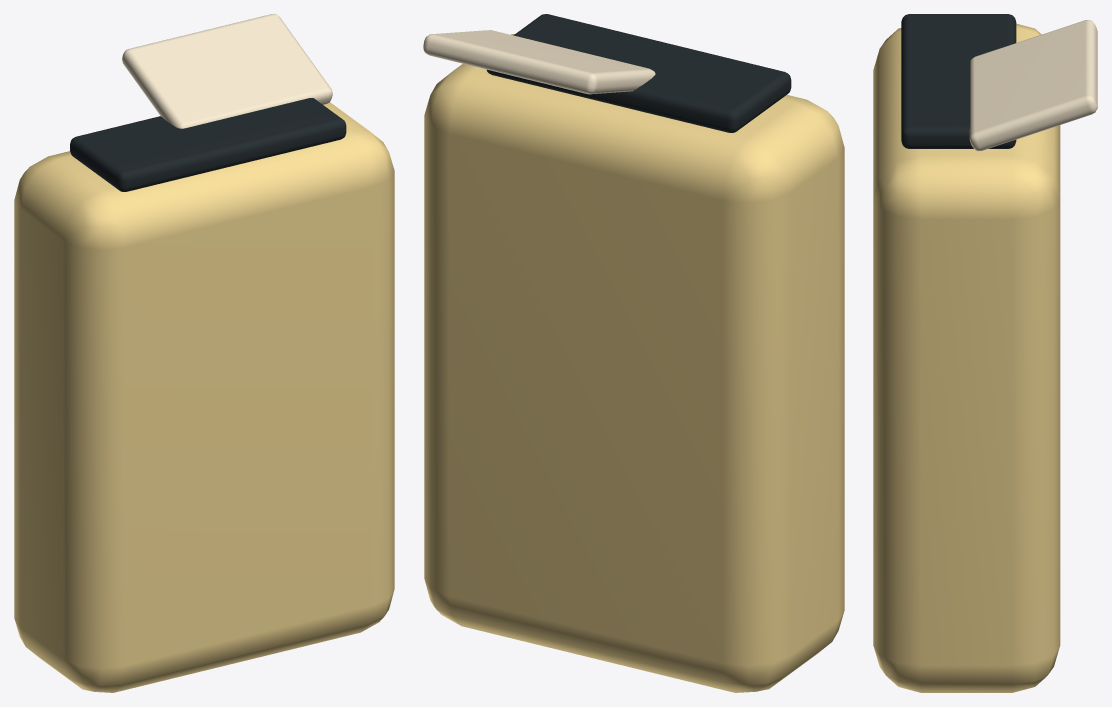
The model's file is Food_Opened.fbx.
3 renders of one model, left to right at view 1: azimuth 30°, elevation 25°; view 2: azimuth 150°, elevation 25°; view 3: azimuth 270°, elevation 25°, orthographic. The views are drawn at different scales.
Visible parts, largest first — view 1: Food, RaisedWrapperFlap, OpenTear; view 2: Food, OpenTear, RaisedWrapperFlap; view 3: Food, RaisedWrapperFlap, OpenTear.
Part boxes in pixels (bbox=[...]): Food: bbox=[14, 102, 394, 692]; RaisedWrapperFlap: bbox=[122, 14, 332, 128]; OpenTear: bbox=[70, 98, 346, 191]; Food: bbox=[424, 34, 844, 692]; OpenTear: bbox=[486, 14, 791, 132]; RaisedWrapperFlap: bbox=[423, 30, 655, 94]; Food: bbox=[873, 23, 1060, 692]; RaisedWrapperFlap: bbox=[969, 20, 1097, 151]; OpenTear: bbox=[901, 14, 1016, 148].
Size of the model in its own units: 15 by 24.54 by 8.4.
